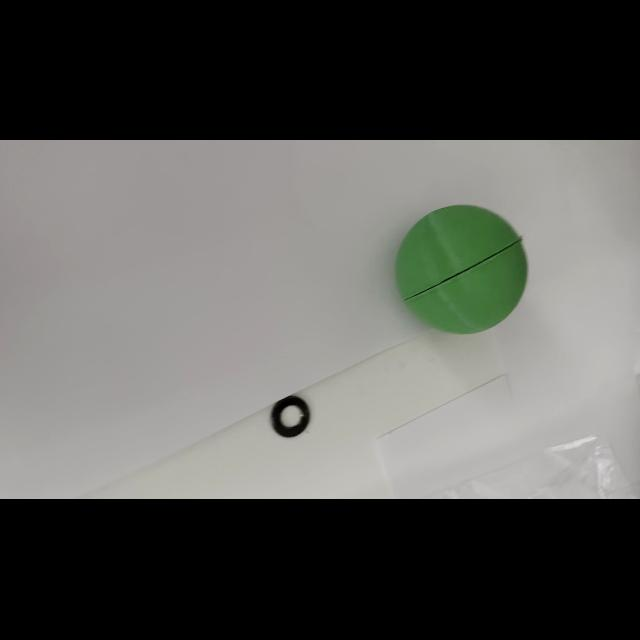objects: (391, 198, 534, 342)
